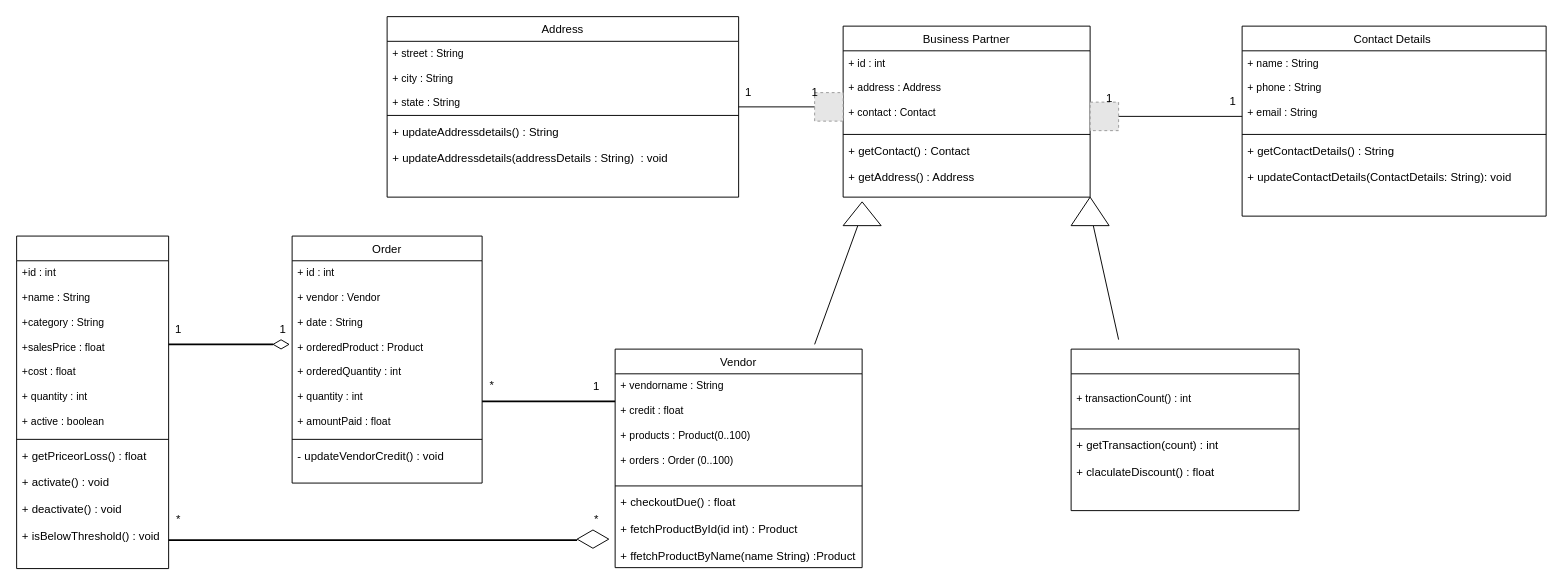
Image size: 1563x588. Some labels were removed from this diagram. Grey dashed boxes stand in for pictures. Here are the shapes that lost their labels. From the top down, the box of each, then its label:
(16, 235, 169, 569): Product
(1070, 348, 1299, 511): Customer
